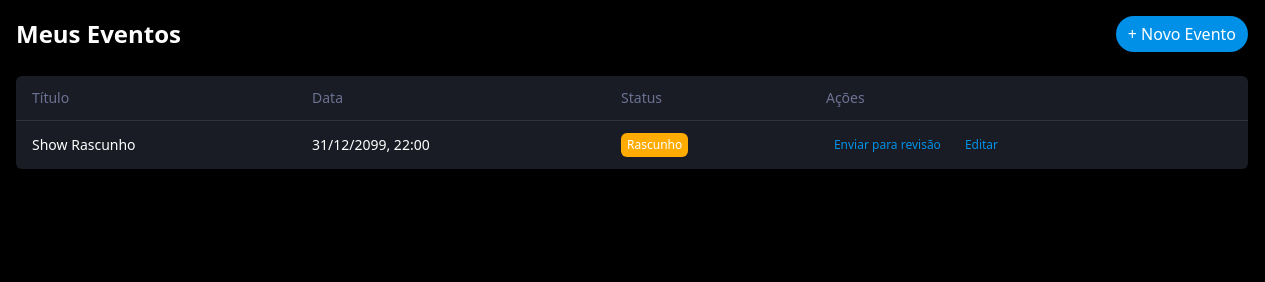
Test: app/eventos/page.tsx (integration, real hooks + client + http stack) › GIVEN a draft event WHEN 'Enviar para revisão' rejects with quota_exceeded THEN it shows the at-limit banner instead of silently failing
Expected: the text "Show Rascunho" is shown, top-left (16, 120), bottom-right (296, 169)
What coordinates should you click on to do the following:
click the button "Enviar para revisão"
I would click on:
 (887, 145)
Its box is top-left (826, 133), bottom-right (949, 157).
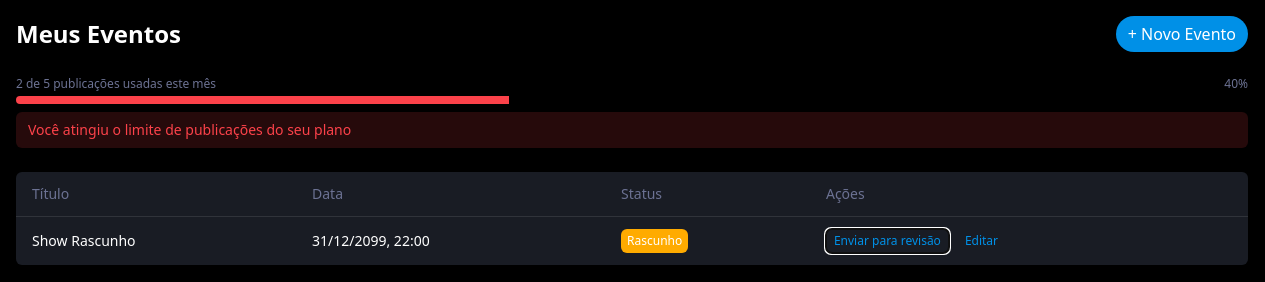
Expected: the text "Você atingiu o limite de publicações do seu plano" is shown, top-left (16, 112), bottom-right (1248, 148)
